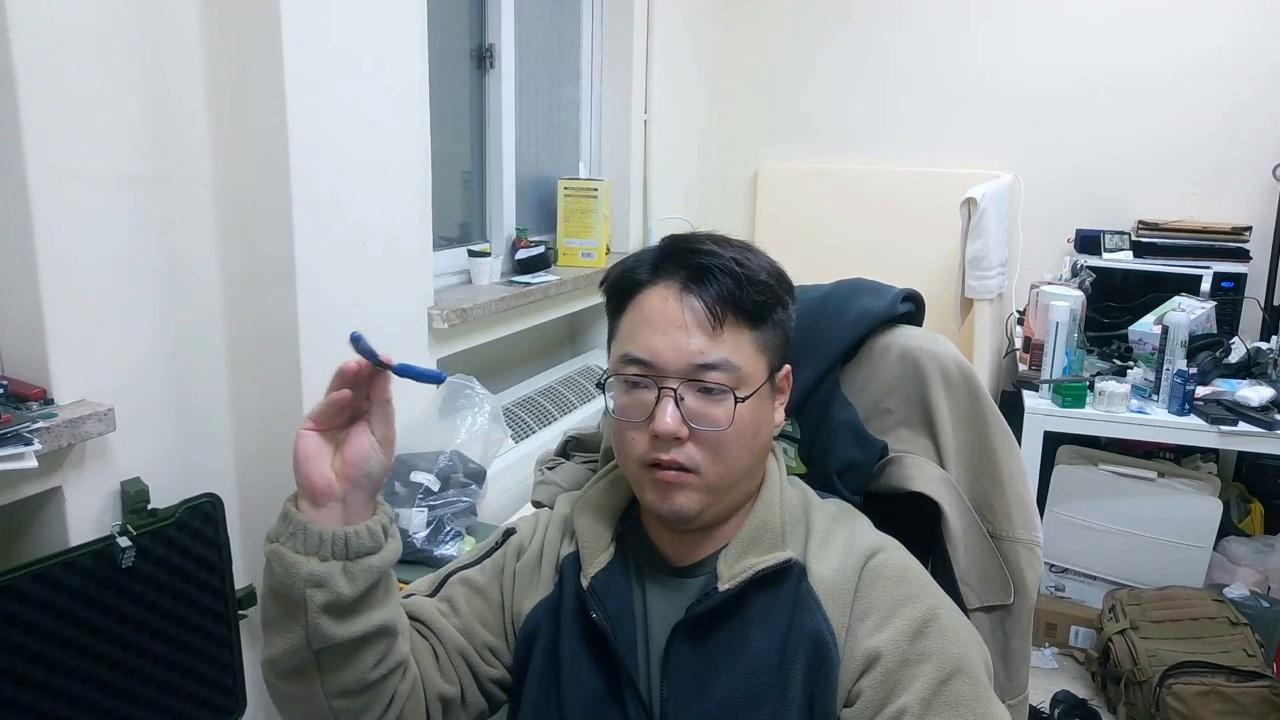blue_pliers: (348, 329, 449, 388)
